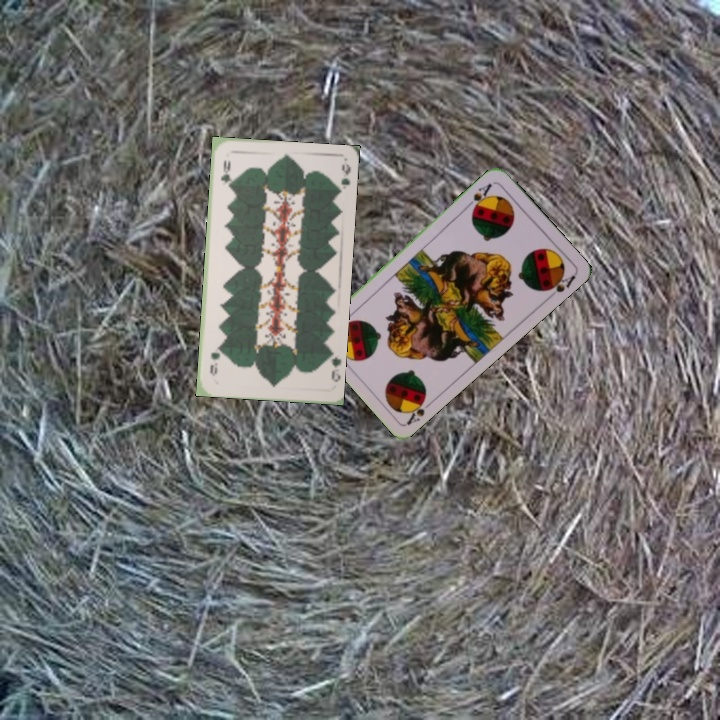G9: (322, 348, 342, 385), (217, 156, 233, 189)
SA: (401, 391, 436, 427), (463, 178, 495, 213)
